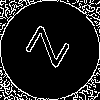Z: (25, 25, 80, 74)
